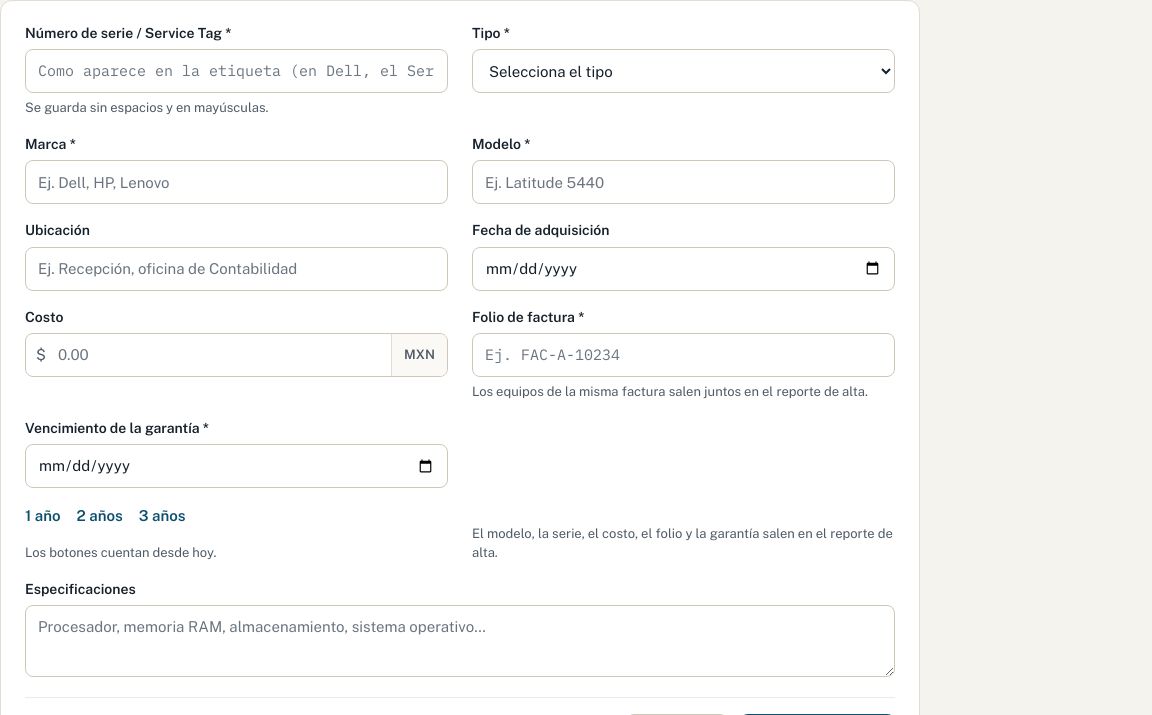
Scenario: FormularioEquipo › muestra cómo se guardará el número de serie mientras se escribe
In the field with id "numeroSerie": {"x": 236, "y": 71} [25,49,448,93], type "demo sn 0007"
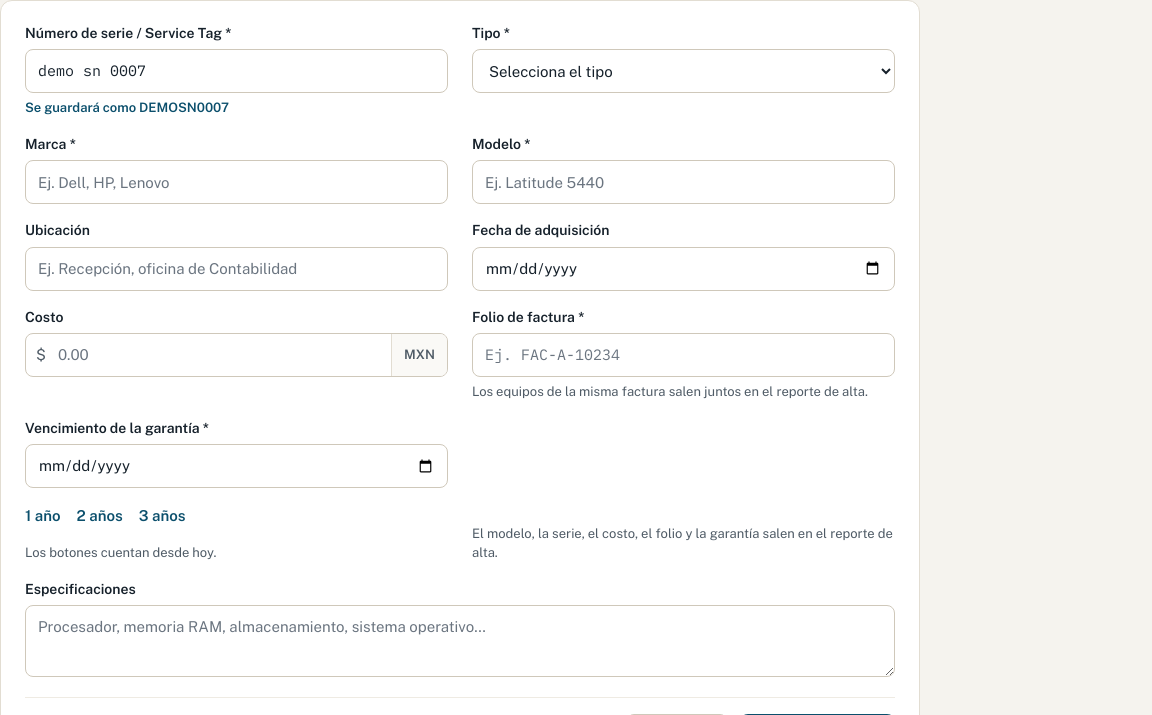
Expected: the text with id "ayuda-serie" reads "Se guardará como DEMOSN0007", [25,100,229,115]
